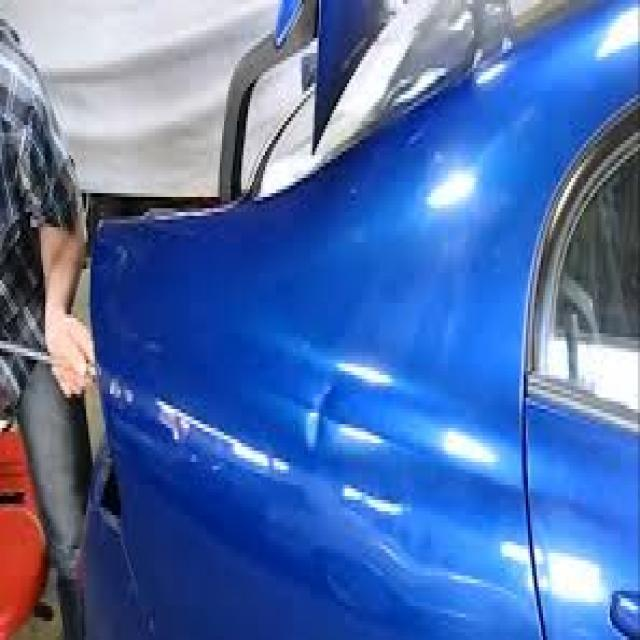car damage: (317, 548, 396, 615), (340, 475, 403, 519), (153, 389, 194, 454), (305, 378, 335, 460), (108, 369, 139, 411), (110, 226, 132, 273)
